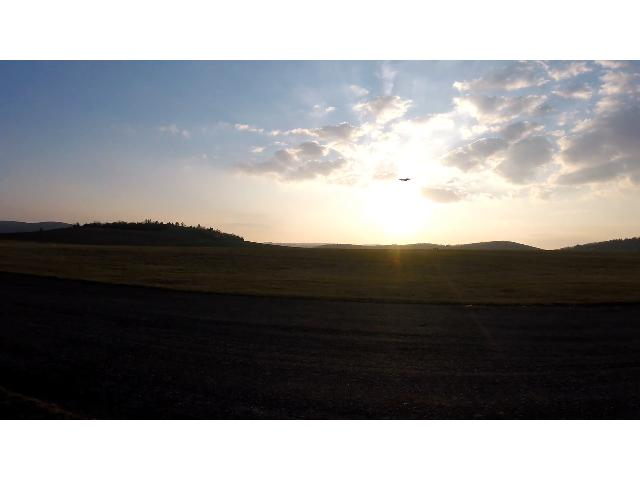Anti-Drone: (399, 177, 411, 181)
